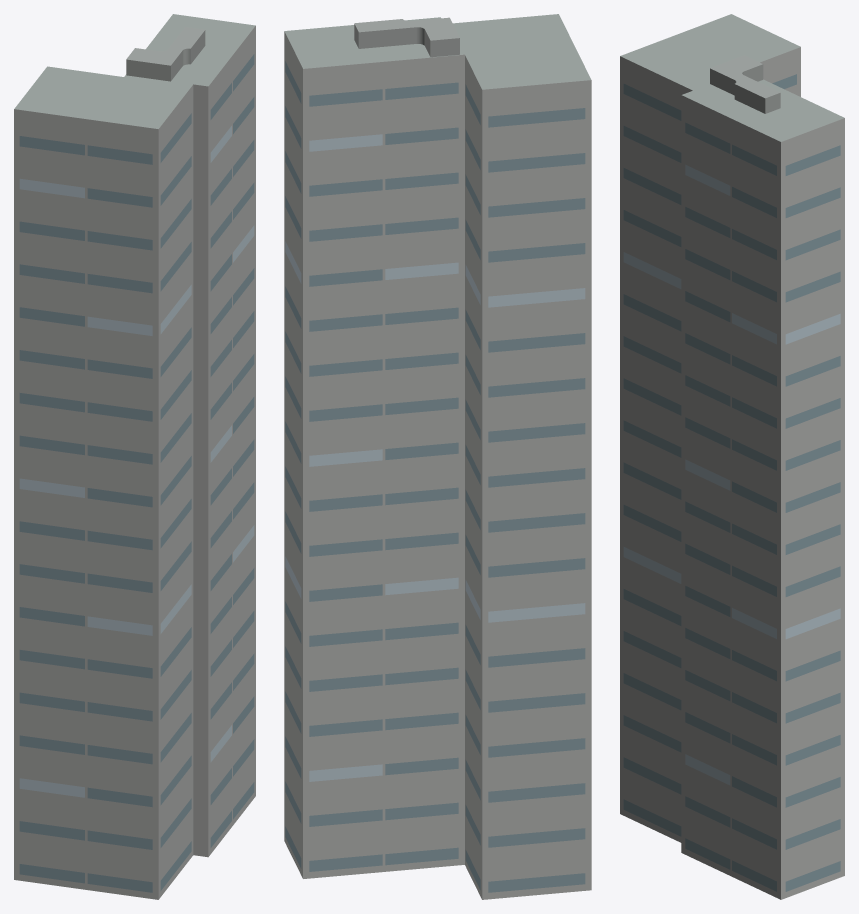
File: fallback-godeok-gracium-101.glb
3 renders of one model, left to right at view 1: azimuth 30°, elevation 25°; view 2: azimuth 150°, elevation 25°; view 3: azimuth 270°, elevation 25°, orthographic. The views are drawn at different scales.
Parts seen in each view (by area): view 1: fallback-godeok-gracium-101; view 2: fallback-godeok-gracium-101; view 3: fallback-godeok-gracium-101.
Part boxes in pixels (bbox=[...]): fallback-godeok-gracium-101: bbox=[14, 14, 255, 899]; fallback-godeok-gracium-101: bbox=[284, 14, 591, 899]; fallback-godeok-gracium-101: bbox=[620, 14, 844, 899].
Bounding box in the file's own units: 42.26 × 119 × 31.37.
